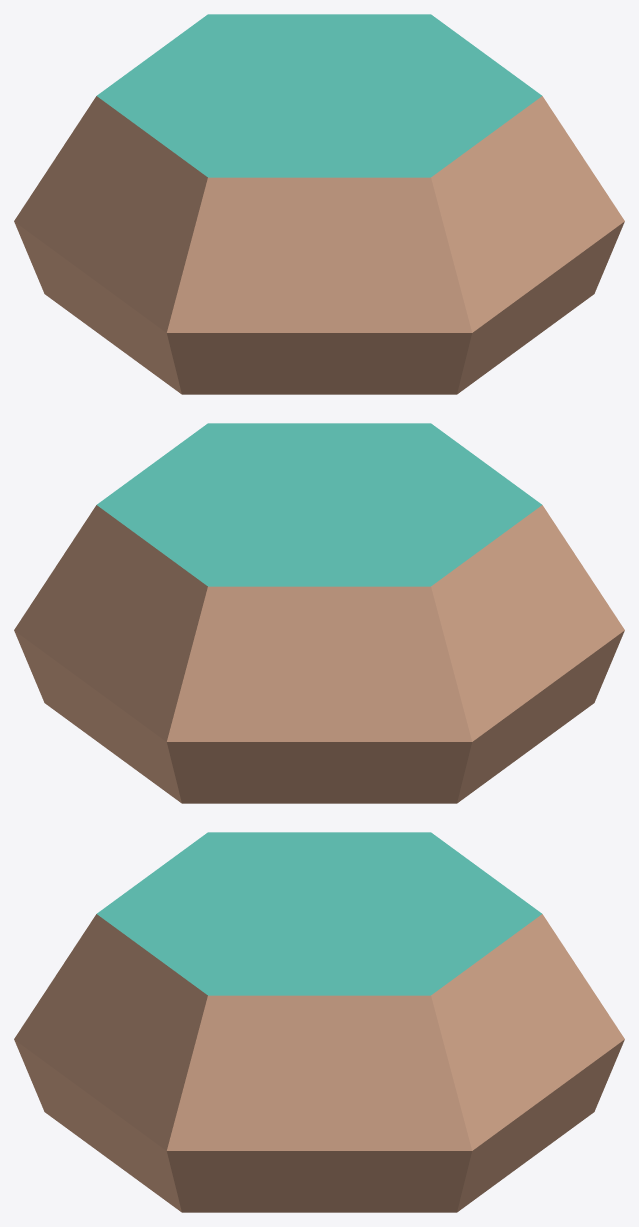
Rendered from rock_smallG.glb.
3 views of the same model, one above another, from view 1: azimuth 30°, elevation 25°; view 2: azimuth 150°, elevation 25°; view 3: azimuth 270°, elevation 25° (orthographic).
Parts seen in each view (by area): view 1: rock_smallG; view 2: rock_smallG; view 3: rock_smallG.
Part boxes in pixels (bbox=[...]): rock_smallG: bbox=[14, 14, 624, 394]; rock_smallG: bbox=[14, 423, 624, 803]; rock_smallG: bbox=[14, 832, 624, 1212].
Bounding box in the file's own units: 0.5937 × 0.2453 × 0.6855.
